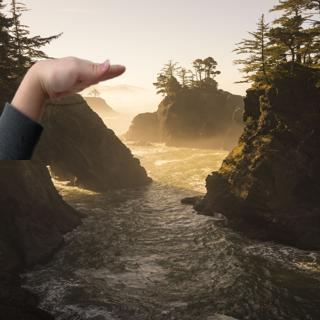Wait: (12, 52, 131, 106)
